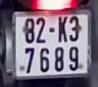2: (34, 15, 48, 44)
3: (70, 15, 81, 43)
6: (38, 46, 51, 73)
7: (23, 47, 35, 74)
8: (23, 16, 36, 45), (54, 45, 65, 71)
9: (68, 45, 80, 73)
K: (55, 14, 68, 43)
